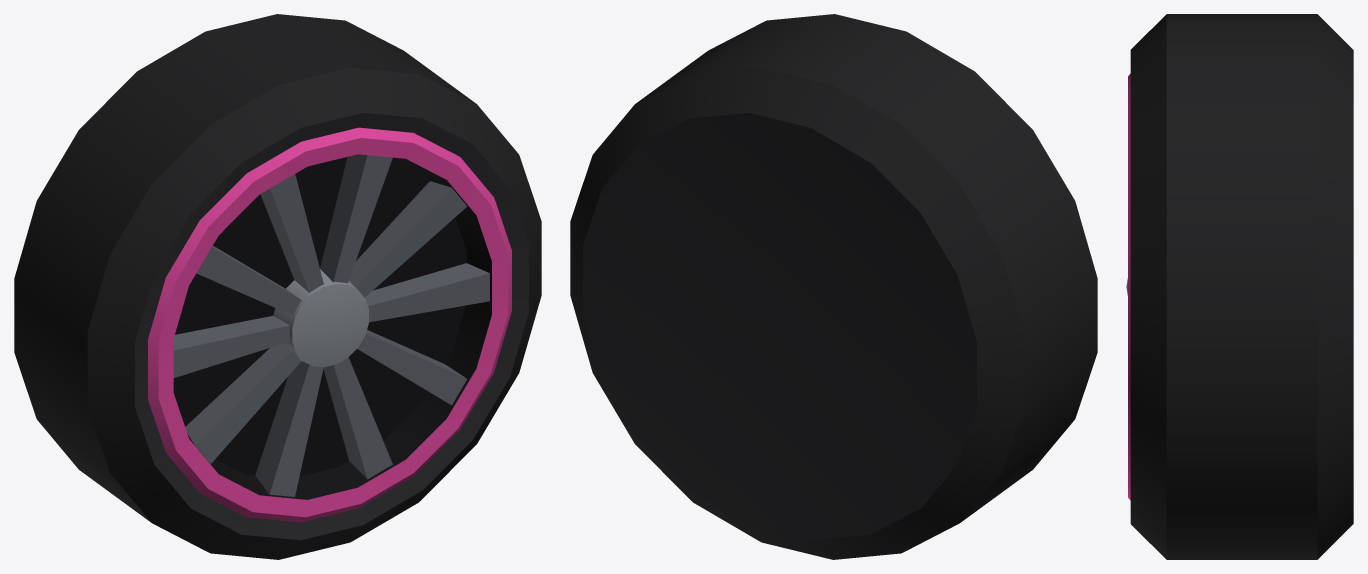
File: aurora_wheel.glb
3 renders of one model, left to right at view 1: azimuth 30°, elevation 25°; view 2: azimuth 150°, elevation 25°; view 3: azimuth 270°, elevation 25°, orthographic. The views are drawn at different scales.
Visible parts, largest first — view 1: Wheel; view 2: Wheel; view 3: Wheel.
Boxes of the visible parts, bbox=[...] form: Wheel: bbox=[14, 14, 541, 559]; Wheel: bbox=[570, 14, 1097, 559]; Wheel: bbox=[1126, 14, 1353, 559].
Size of the model in its own units: 0.7506 by 0.7506 by 0.316.
